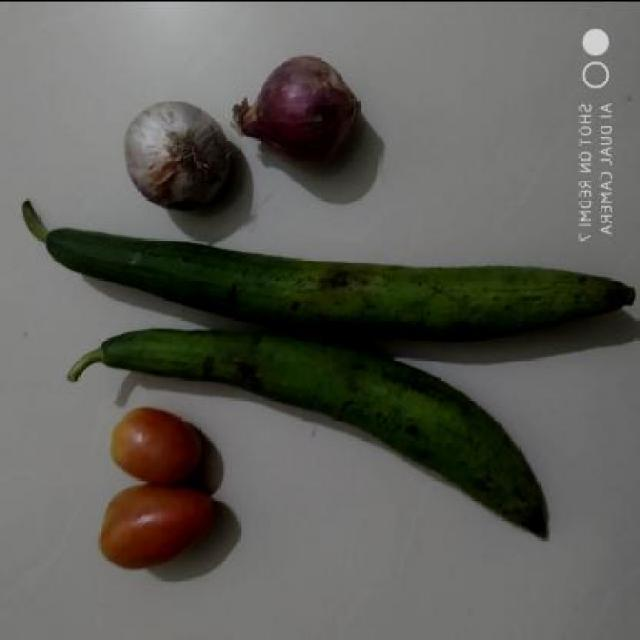Onion: (111, 91, 237, 211), (238, 57, 364, 168)
Sponge Gourd: (9, 228, 637, 384)
Tomato: (97, 489, 217, 569), (108, 408, 212, 484)
